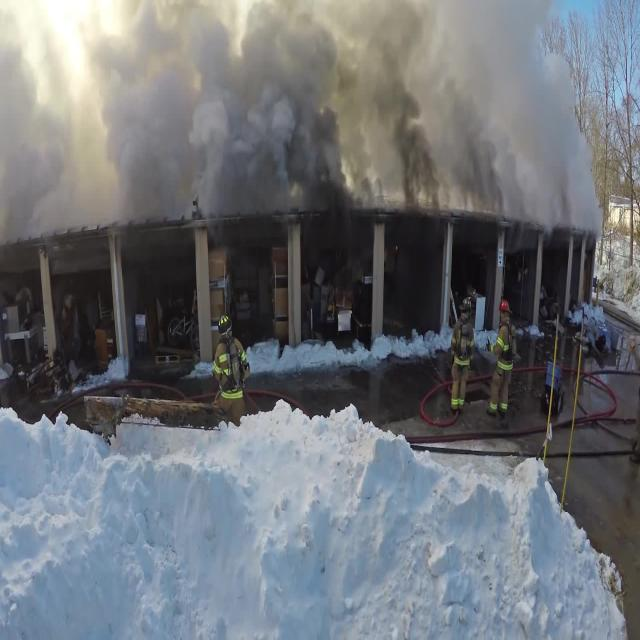Smoke: (0, 0, 620, 242)
